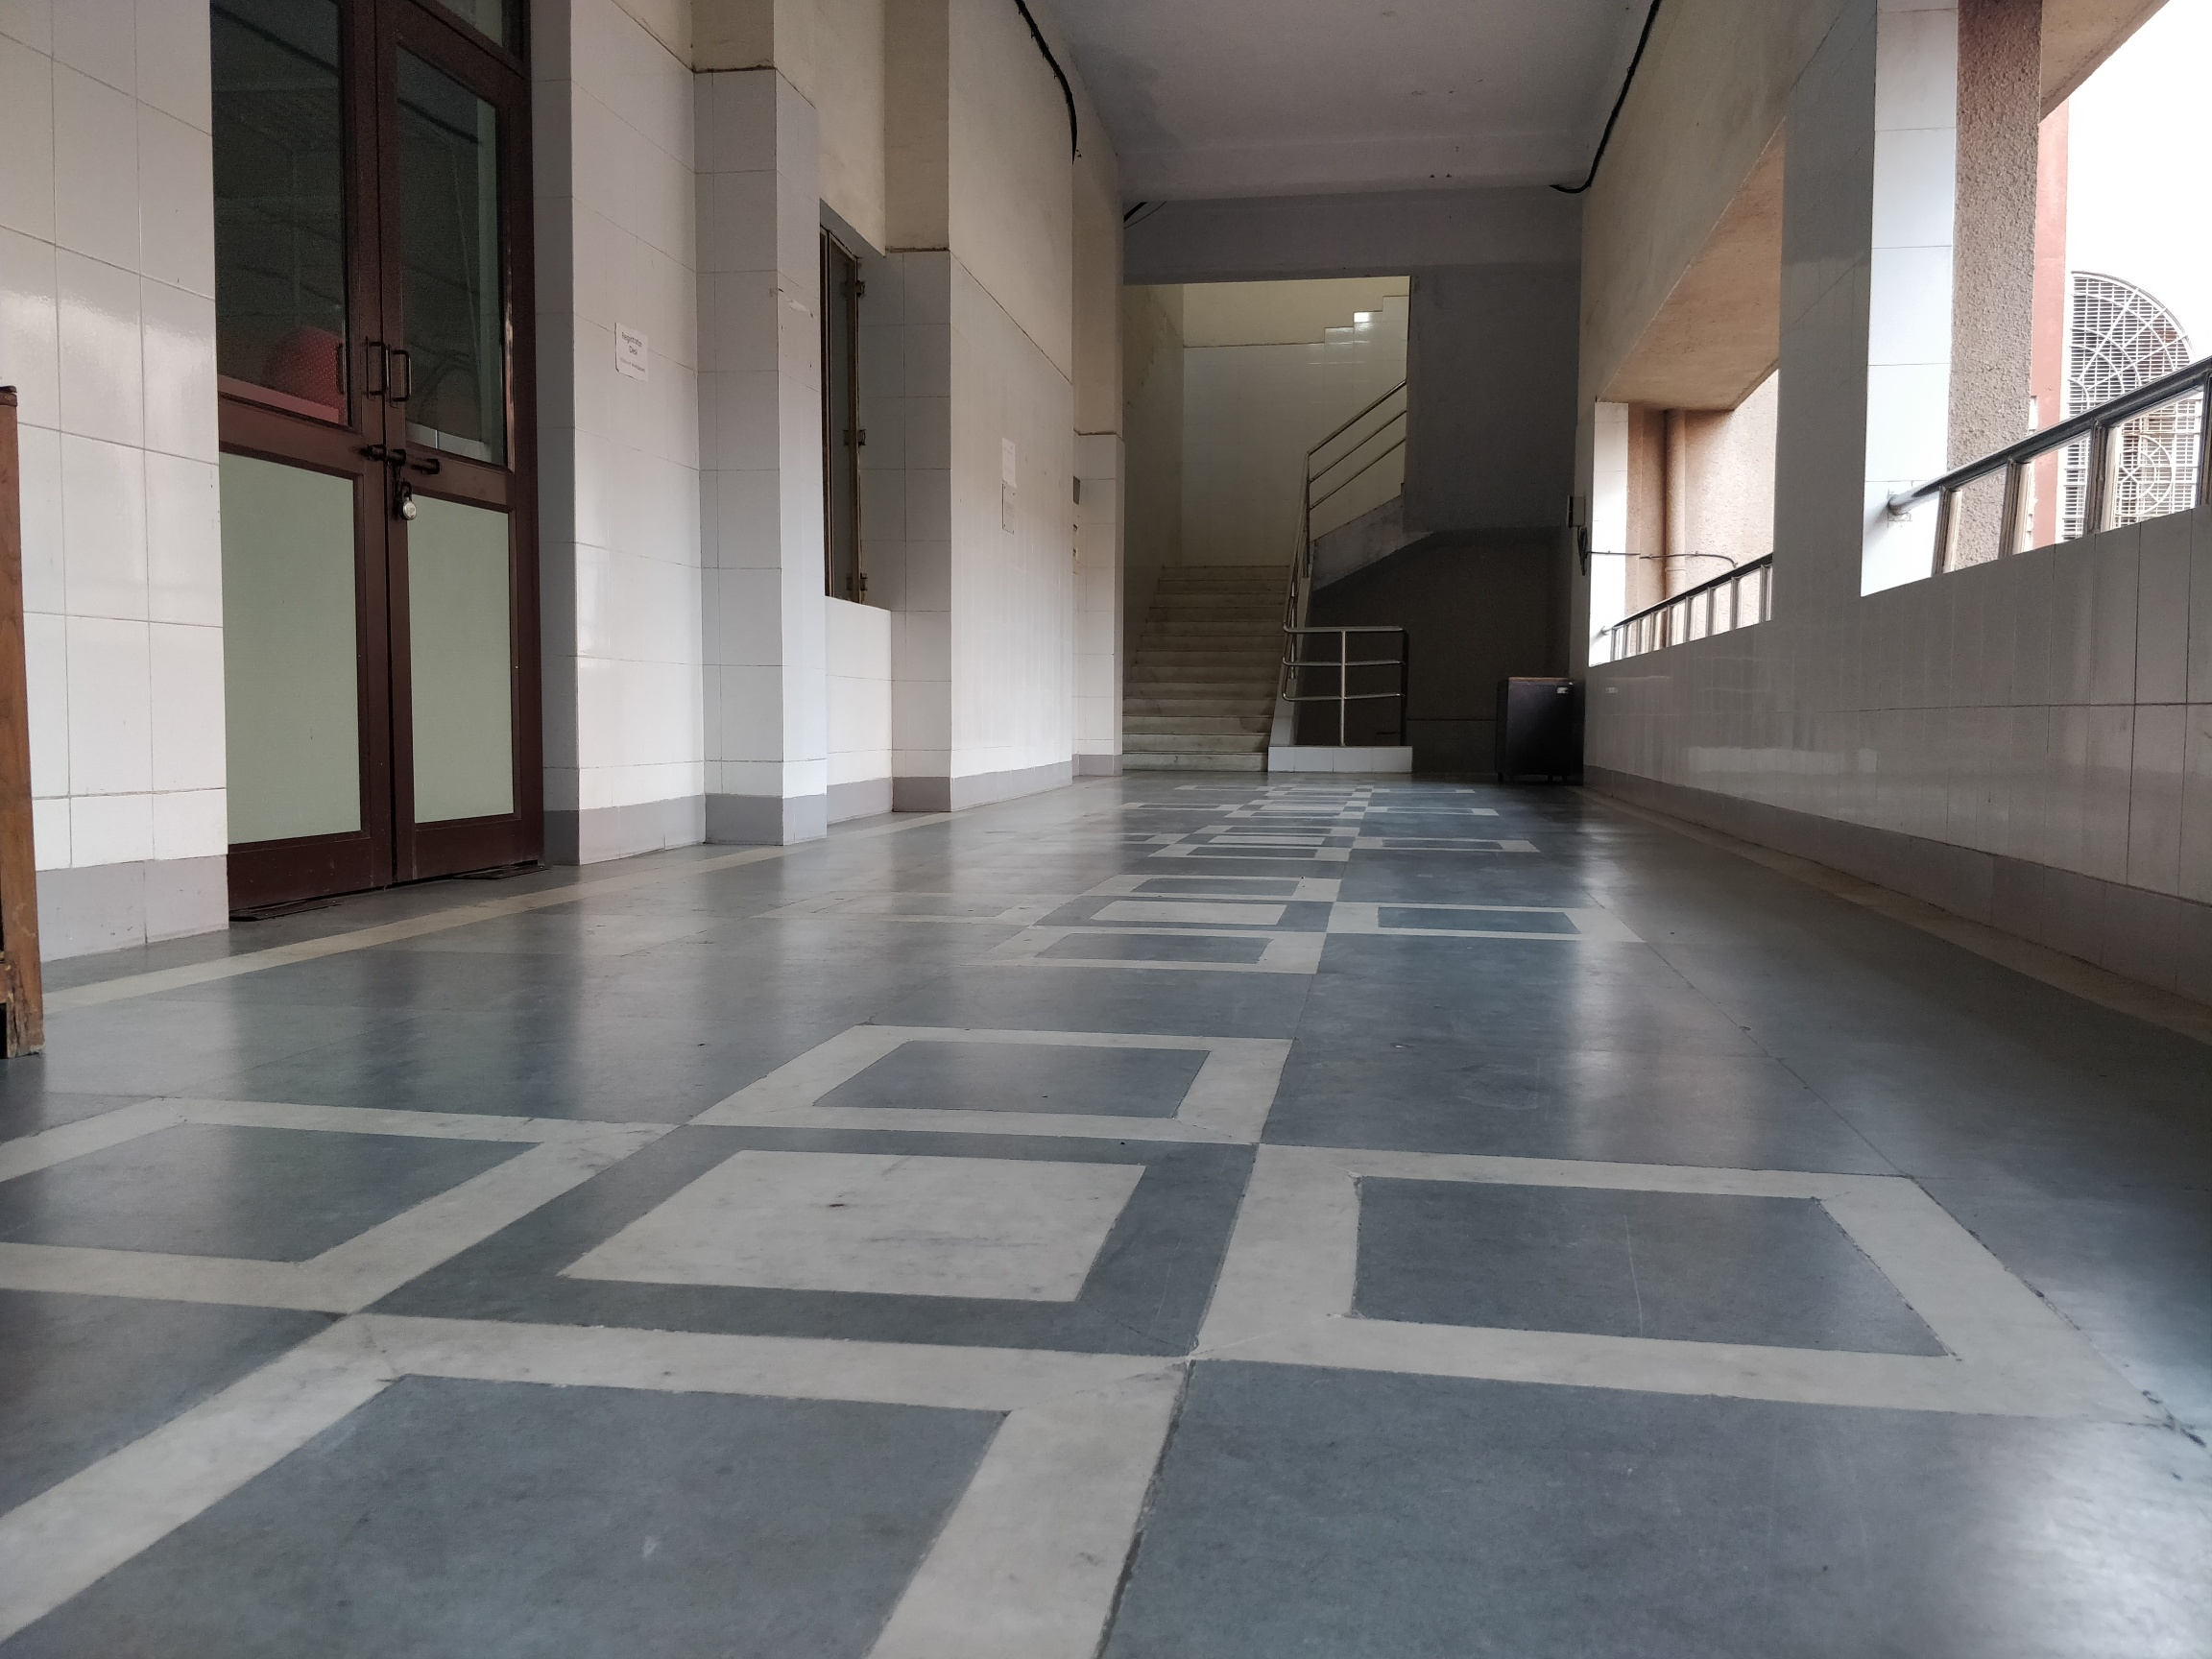stairs_up: (1122, 538, 1296, 777)
